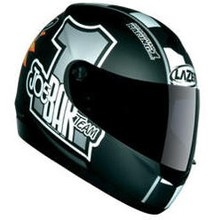helmet: (21, 6, 204, 211)
